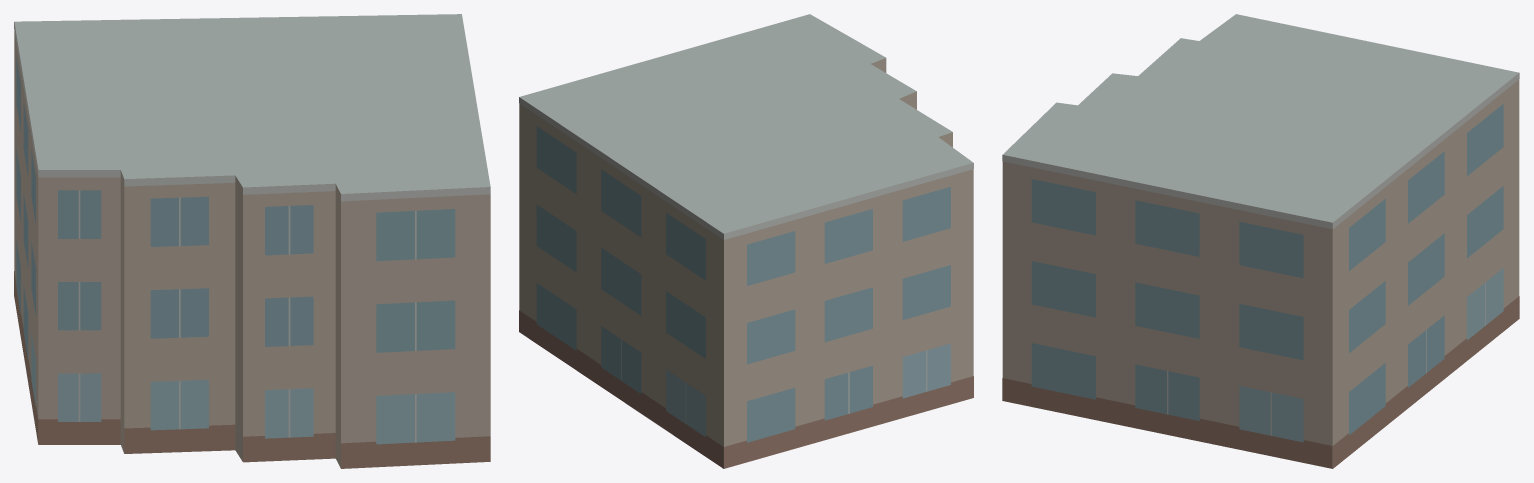
The model's file is survey-upis-32838477.glb.
3 renders of one model, left to right at view 1: azimuth 30°, elevation 25°; view 2: azimuth 150°, elevation 25°; view 3: azimuth 270°, elevation 25°, orthographic. The views are drawn at different scales.
Parts seen in each view (by area): view 1: survey-upis-32838477.tmp; view 2: survey-upis-32838477.tmp; view 3: survey-upis-32838477.tmp.
Part boxes in pixels (<box>): survey-upis-32838477.tmp: <box>14,14,490,468</box>; survey-upis-32838477.tmp: <box>519,14,973,468</box>; survey-upis-32838477.tmp: <box>1002,14,1519,468</box>.
Bounding box in the file's own units: 16.65 × 9.15 × 17.42.
